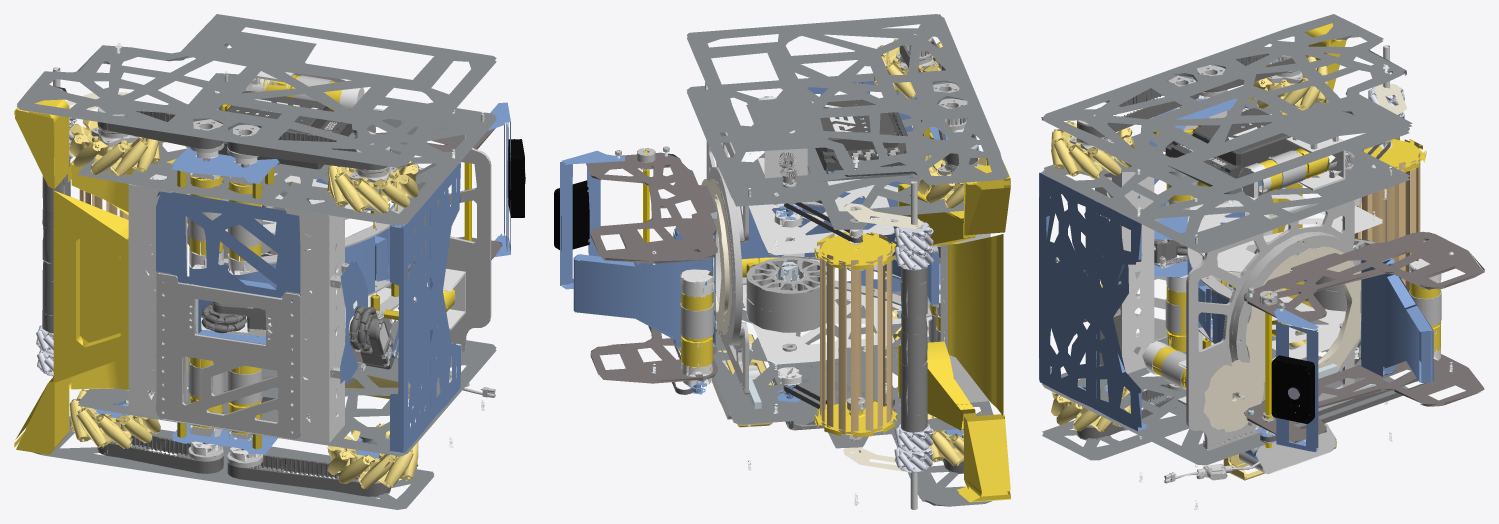
File: DecodeBot.web.glb
3 views of the same model, side by side, from view 1: azimuth 30°, elevation 25°; view 2: azimuth 150°, elevation 25°; view 3: azimuth 270°, elevation 25° (orthographic). The views are drawn at different scales.
Parts seen in each view (by area): view 1: Part 1 (×8), 1516-4008-0160, 1516-4008-0640-Mirrored, 140T 2M Belt, 3110-0001-0001-V1.1 wheel adap v2, REV-31-1153 (×2), Glass, Shaft, REV-31-1152; view 2: Part 1 (×9), 1516-4008-0160, 1516-4008-0640-Mirrored, 3613-0014-0096 Rubber, REV-31-1153 (×2), REV-31-1152, 140T 2M Belt, Glass, 1106-0008-0064, VITE_TESTA_BOMBATA_ESAGONO_INCASSATO; view 3: Part 1 (×8), 1516-4008-0160, 1516-4008-0640-Mirrored, 140T 2M Belt, REV-31-1153 (×2), Glass, 3613-0014-0096 Rubber, 3110-0001-0001-V1.1 wheel adap v2.
Boxes of the visible parts, x1,y1,x2,y2 form: Part 1 (×8): (14,14,510,509); 1516-4008-0160: (91,72,495,498); 1516-4008-0640-Mirrored: (115,42,484,461); 140T 2M Belt: (97,109,390,496); 3110-0001-0001-V1.1 wheel adap v2: (203,301,394,369); REV-31-1153 (×2): (199,84,471,241); Glass: (507,139,525,217); Shaft: (201,303,377,351); REV-31-1152: (36,117,77,376); Part 1 (×9): (560,14,1010,506); 1516-4008-0160: (615,36,983,471); 1516-4008-0640-Mirrored: (680,34,990,506); 3613-0014-0096 Rubber: (640,156,862,441); REV-31-1153 (×2): (815,99,907,170); REV-31-1152: (894,221,933,472); 140T 2M Belt: (648,38,977,473); Glass: (554,180,589,249); 1106-0008-0064: (651,212,800,408); VITE_TESTA_BOMBATA_ESAGONO_INCASSATO: (651,82,917,509); Part 1 (×8): (1039,14,1484,480); 1516-4008-0160: (1069,55,1441,483); 1516-4008-0640-Mirrored: (1094,64,1441,509); 140T 2M Belt: (1076,53,1426,441); REV-31-1153 (×2): (1165,108,1299,468); Glass: (1271,355,1314,423); 3613-0014-0096 Rubber: (1180,97,1375,421); 3110-0001-0001-V1.1 wheel adap v2: (1075,239,1187,322).
Bounding box in the file's own units: 0.6006 × 0.4257 × 0.5078.
